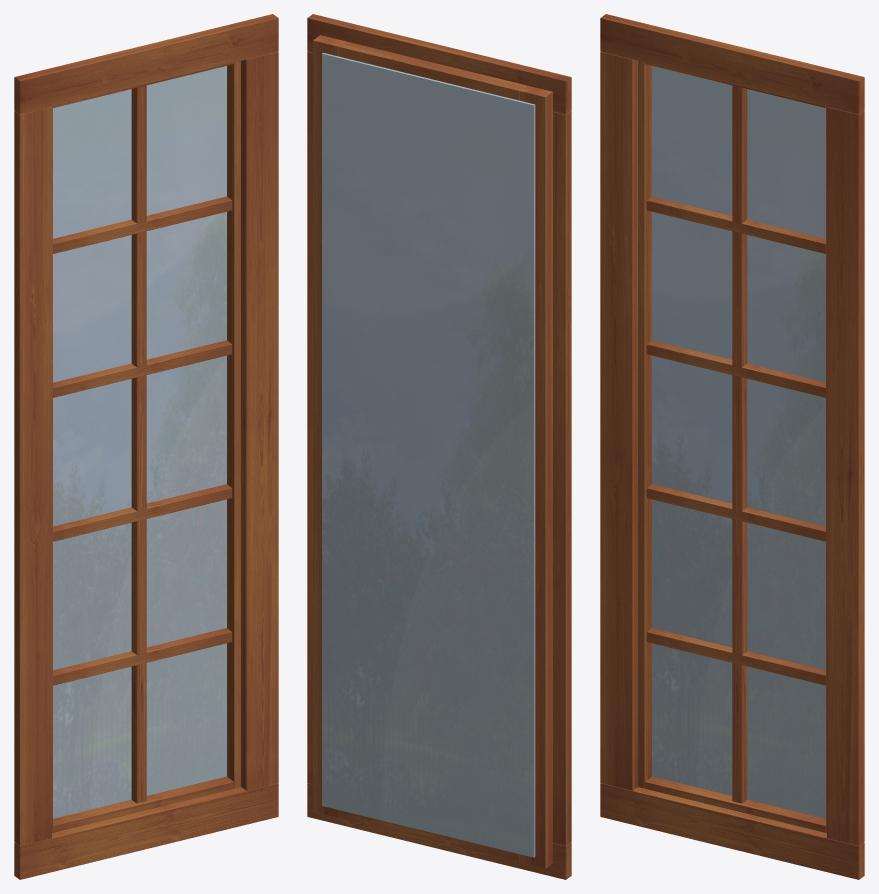
The picture shows the model from 3 angles, left to right: view 1: azimuth 30°, elevation 25°; view 2: azimuth 150°, elevation 25°; view 3: azimuth 330°, elevation 25°; orthographic projection.
Parts seen in each view (by area): view 1: glass, trim_left, trim_right, muttin000, trim_top, trim_bottom, window_right, muttin_horizontal001, muttin_horizontal003, muttin_horizontal002, muttin_horizontal004, window_bottom (+1 smaller); view 2: glass, window_left, trim_left, window_right, trim_top, trim_right, window_top, trim_bottom, window_bottom; view 3: glass, trim_right, trim_left, muttin000, trim_top, trim_bottom, window_left, muttin_horizontal001, muttin_horizontal003, muttin_horizontal002, muttin_horizontal004, window_bottom (+1 smaller).
Boxes of the visible parts, box(x1,y1,x2,y2) form: glass: box(53, 66, 226, 818); trim_left: box(14, 107, 51, 845); trim_right: box(241, 52, 278, 790); muttin000: box(131, 85, 146, 803); trim_top: box(14, 14, 278, 114); trim_bottom: box(14, 783, 278, 879); window_right: box(227, 61, 240, 788); muttin_horizontal001: box(53, 196, 232, 253); muttin_horizontal003: box(53, 484, 232, 541); muttin_horizontal002: box(53, 340, 232, 397); muttin_horizontal004: box(53, 628, 232, 685); window_bottom: box(53, 776, 233, 832); glass: box(322, 53, 535, 857); window_left: box(520, 85, 552, 868); trim_left: box(553, 111, 571, 845); window_right: box(313, 35, 345, 817); trim_top: box(307, 14, 571, 114); trim_right: box(307, 52, 312, 784); window_top: box(338, 41, 526, 100); trim_bottom: box(307, 783, 571, 879); window_bottom: box(338, 810, 519, 862); glass: box(652, 66, 825, 818); trim_right: box(827, 107, 864, 845); trim_left: box(600, 52, 637, 790); muttin000: box(732, 85, 747, 803); trim_top: box(600, 14, 864, 114); trim_bottom: box(600, 783, 864, 879); window_left: box(638, 61, 651, 788); muttin_horizontal001: box(646, 196, 825, 253); muttin_horizontal003: box(646, 484, 825, 541); muttin_horizontal002: box(646, 340, 825, 397); muttin_horizontal004: box(646, 628, 825, 685); window_bottom: box(645, 776, 825, 832).
Size of the model in its own units: 20 by 59.02 by 1.92.
Materials: 6 (6 with a texture image).
